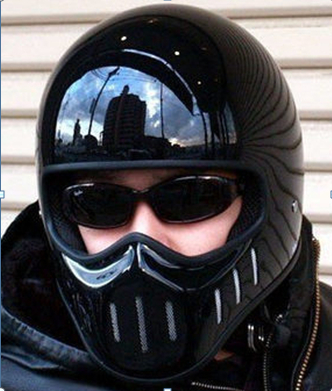helmet: (37, 4, 303, 379)
